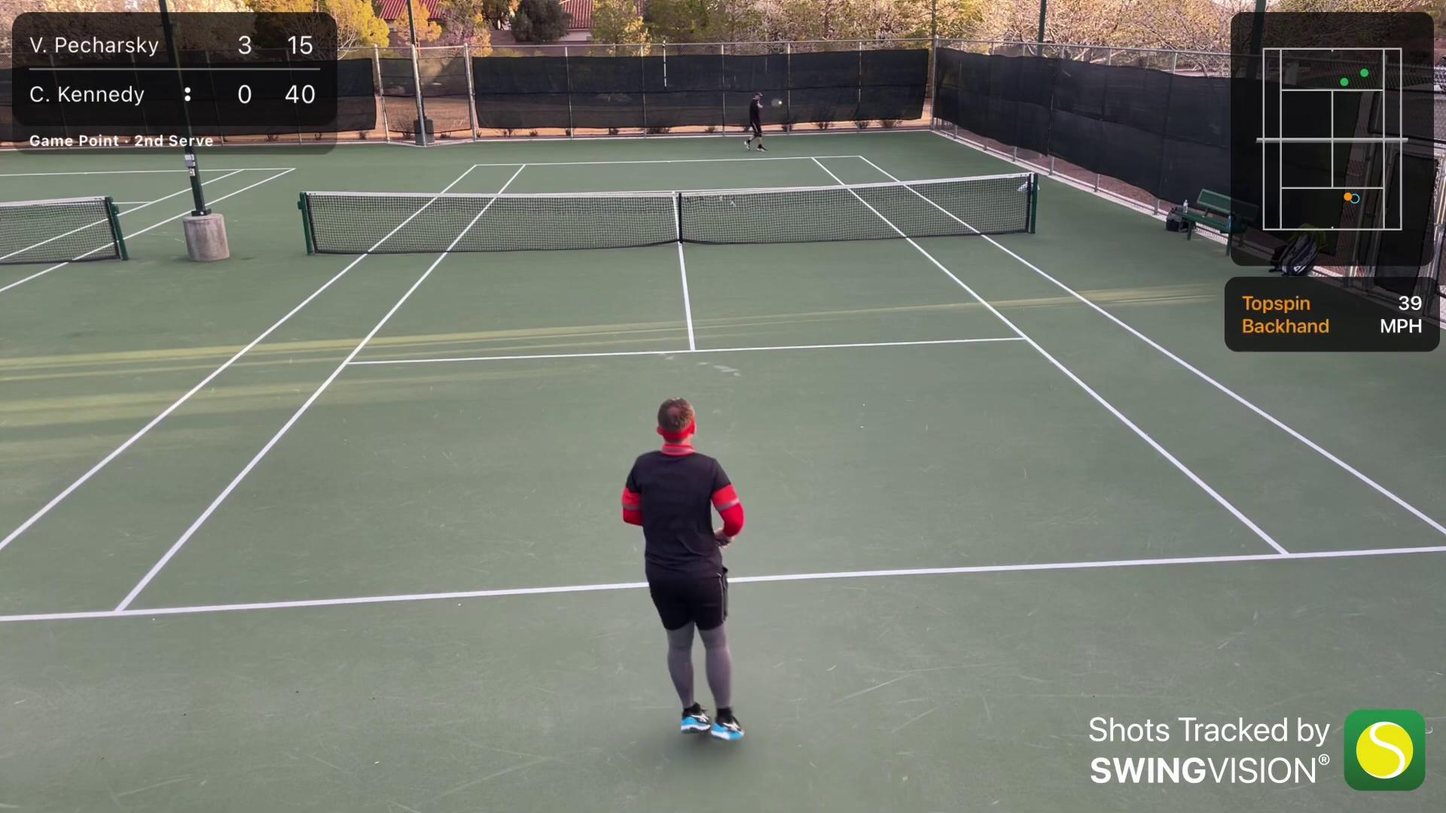ball: (778, 100, 782, 104)
